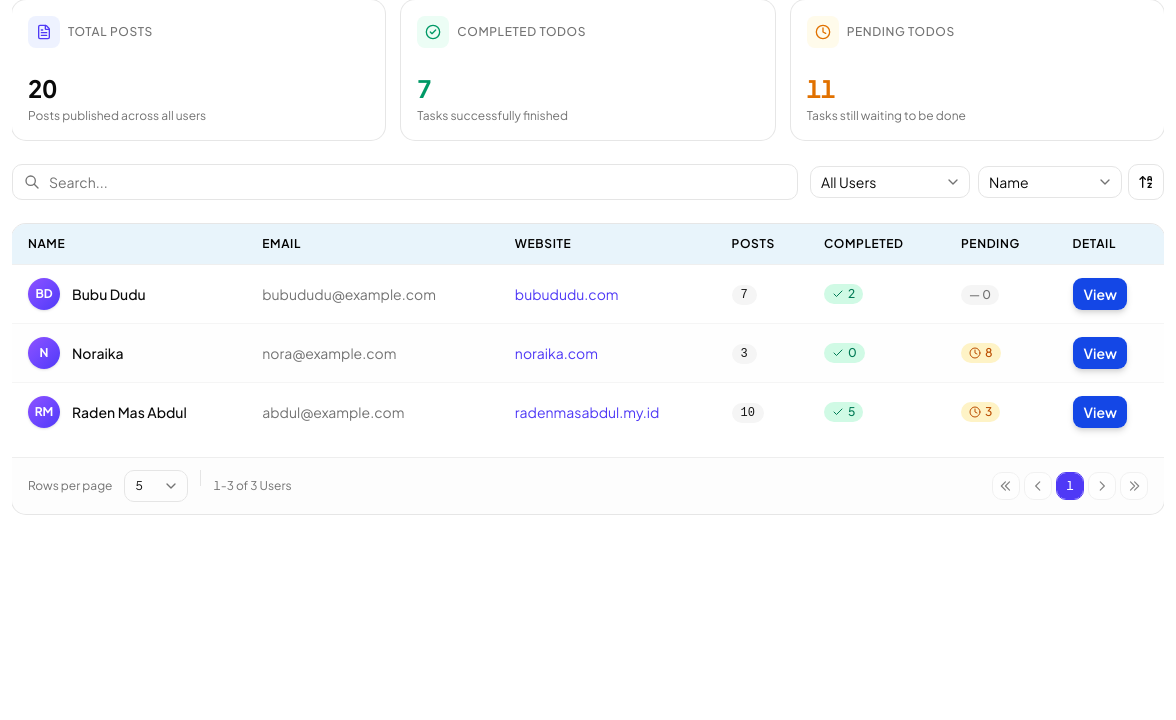
Scenario: User List › additional filter › sort order button toggles aria-label
Click the button named "Sort descending" at x=1146, y=182, box [1128,164,1164,200]
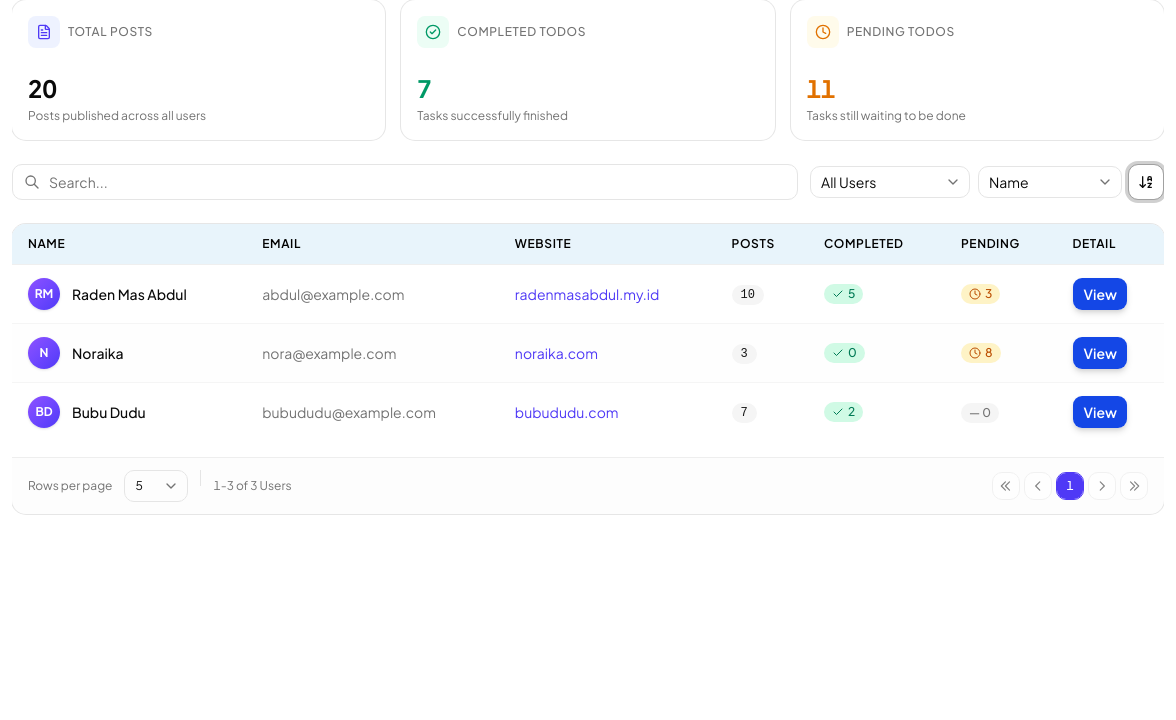
Expected: the button named "Sort ascending" is shown, [1128,164,1164,200]
